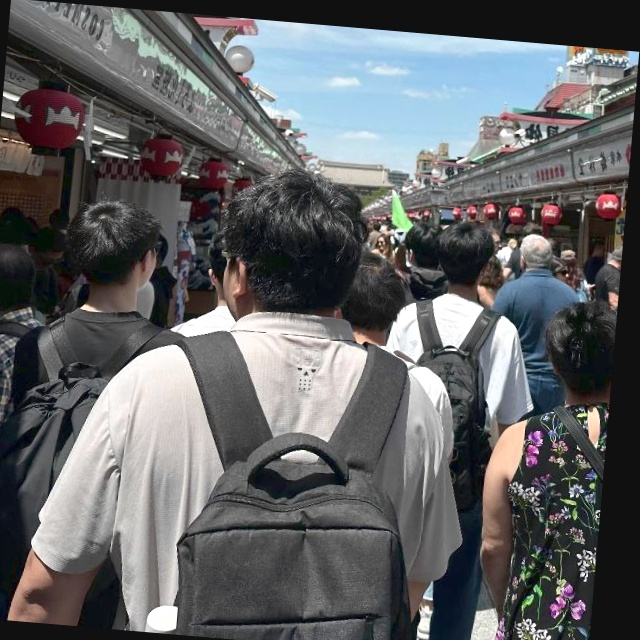Sin_Casco_Mascarrilla: (212, 159, 366, 330), (60, 195, 160, 297)
